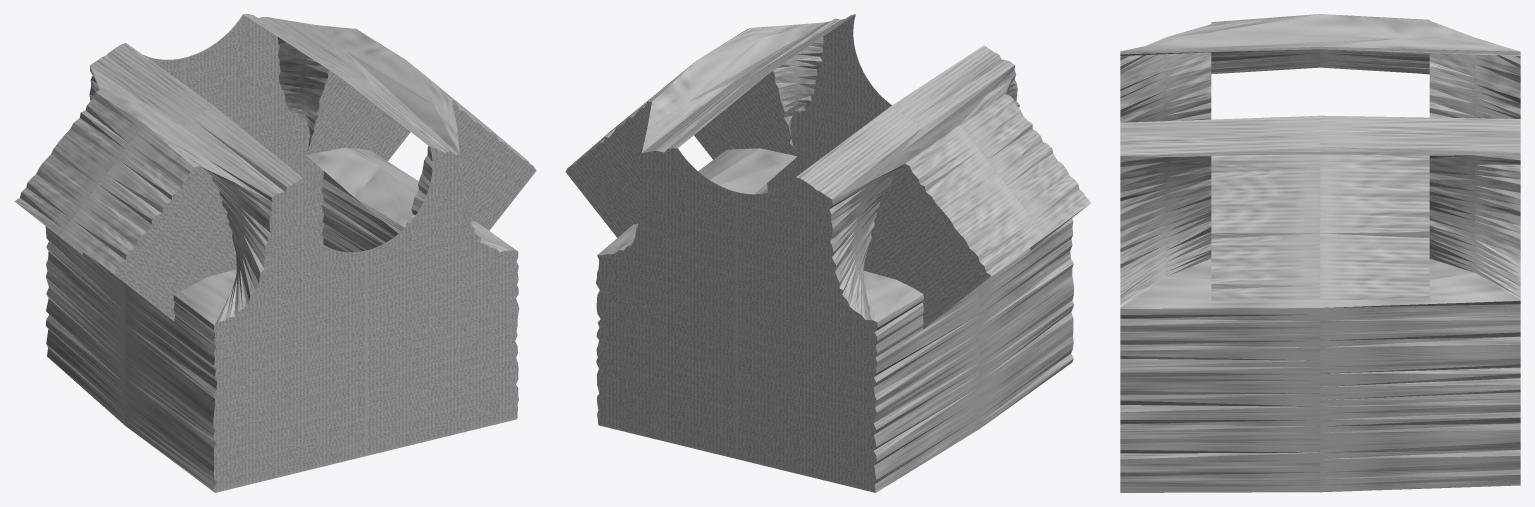
Rendered from physics_smoke_tiny_boxmesh.obj.
The picture shows the model from 3 angles, left to right: view 1: azimuth 30°, elevation 25°; view 2: azimuth 150°, elevation 25°; view 3: azimuth 270°, elevation 25°; orthographic projection. The views are drawn at different scales.
Size of the model in its own units: 75.31 by 49.96 by 55.
1 material, 1 textured.
